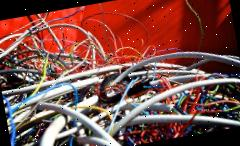electronic: (0, 7, 114, 100)
